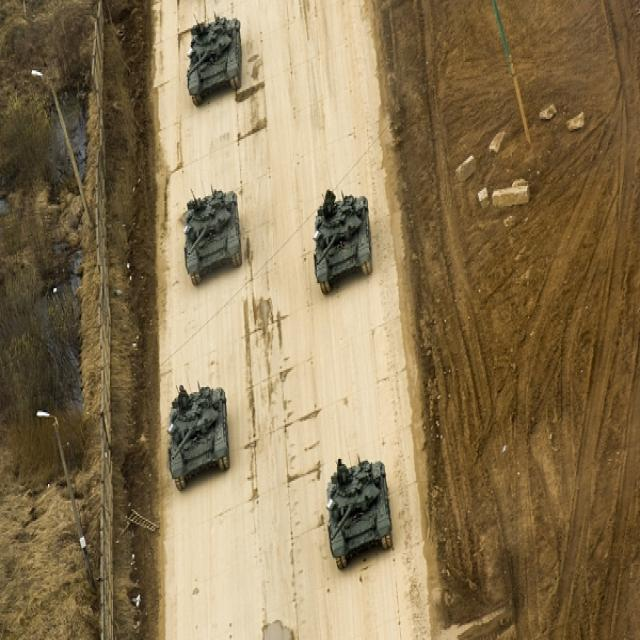tank: (326, 450, 392, 574), (166, 380, 232, 493), (316, 188, 374, 295), (182, 190, 244, 287), (185, 12, 243, 104)
